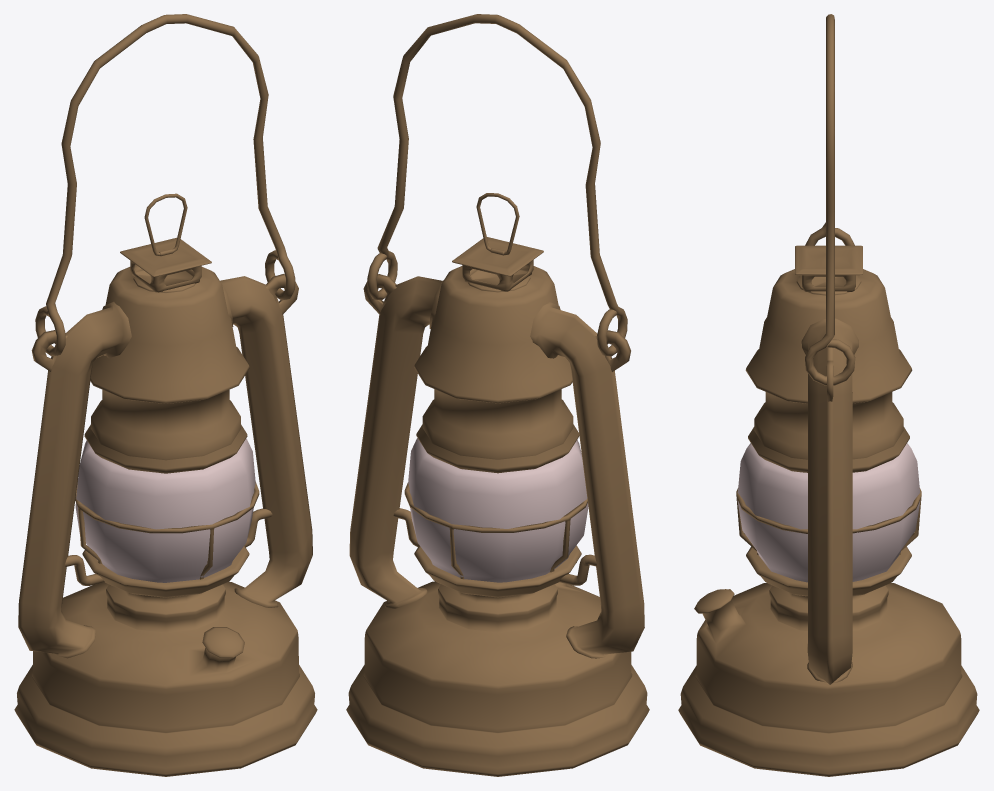
Rendered from Lantern.fbx.
3 views of the same model, side by side, from view 1: azimuth 30°, elevation 25°; view 2: azimuth 150°, elevation 25°; view 3: azimuth 270°, elevation 25° (orthographic).
Visible parts, largest first — view 1: Lantern; view 2: Lantern; view 3: Lantern.
Part boxes in pixels (left/top/right/bottom): Lantern: left=14, top=14, right=317, bottom=776; Lantern: left=346, top=14, right=649, bottom=776; Lantern: left=678, top=14, right=979, bottom=776.
Size of the model in its own units: 19.46 by 44.01 by 17.33.
